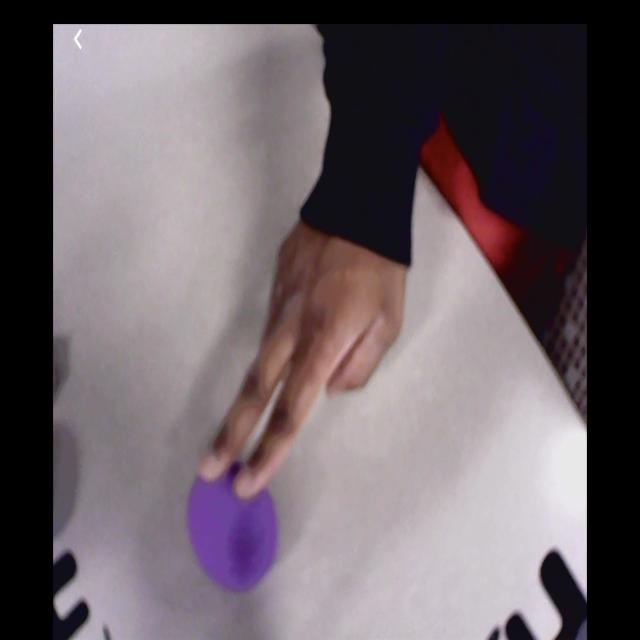ball: (190, 459, 281, 599)
